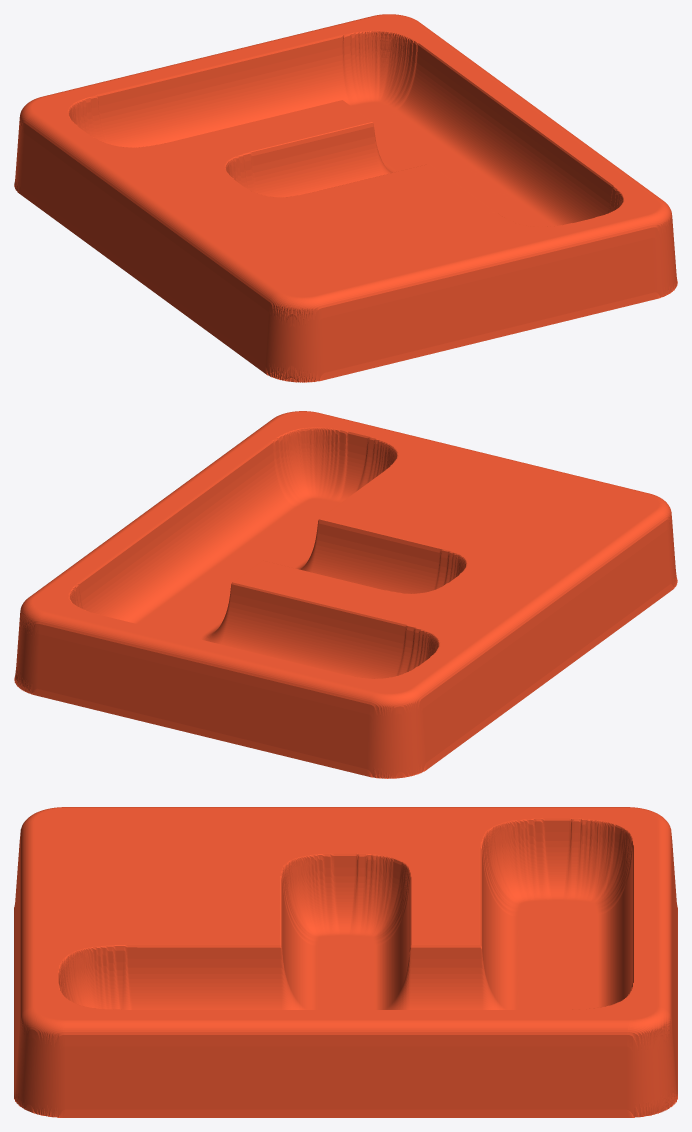
The model's file is mold.glb.
The picture shows the model from 3 angles, top to bottom: view 1: azimuth 30°, elevation 25°; view 2: azimuth 150°, elevation 25°; view 3: azimuth 270°, elevation 25°; orthographic projection. The views are drawn at different scales.
Parts seen in each view (by area): view 1: geometry_0; view 2: geometry_0; view 3: geometry_0.
Part boxes in pixels (left/top/right/bottom): geometry_0: left=14, top=14, right=677, bottom=382; geometry_0: left=14, top=411, right=677, bottom=778; geometry_0: left=14, top=807, right=677, bottom=1117.
Bounding box in the file's own units: 0.096 × 0.0175 × 0.1178.
